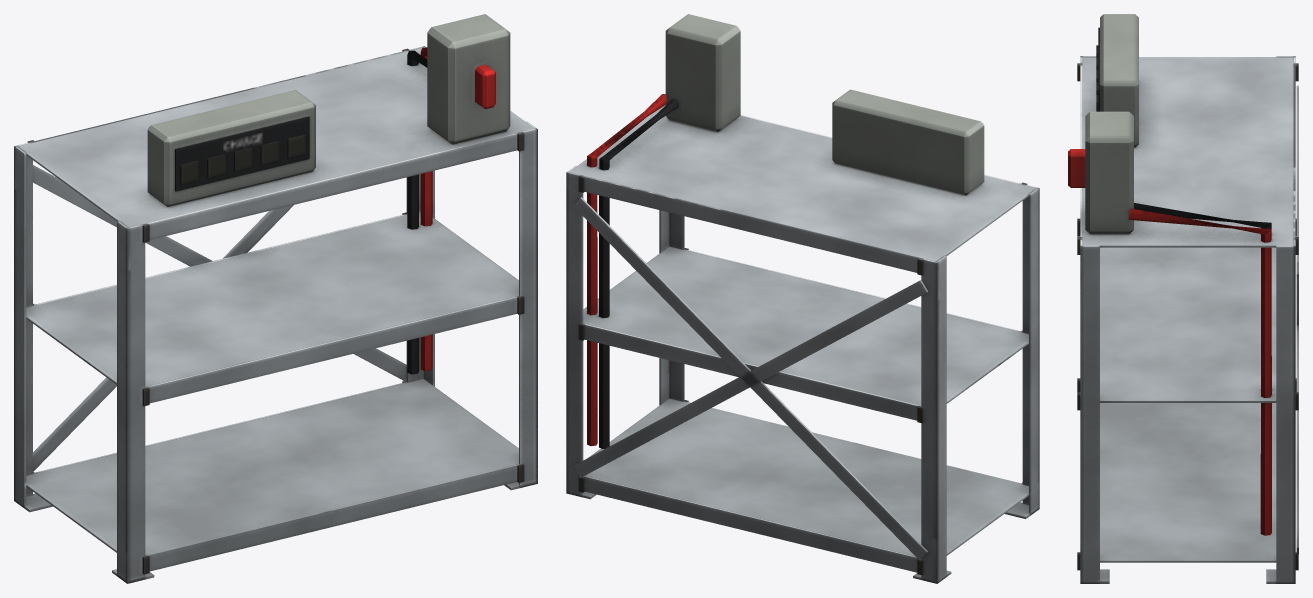
File: RenewableEnergy_BatteryRackMetal.fbx
3 renders of one model, left to right at view 1: azimuth 30°, elevation 25°; view 2: azimuth 150°, elevation 25°; view 3: azimuth 270°, elevation 25°, orthographic. The views are drawn at different scales.
Parts seen in each view (by area): view 1: BatteryRackMetal; view 2: BatteryRackMetal; view 3: BatteryRackMetal.
Boxes of the visible parts, left/top/right/bottom form: BatteryRackMetal: left=14, top=14, right=537, bottom=583; BatteryRackMetal: left=566, top=14, right=1039, bottom=583; BatteryRackMetal: left=1068, top=14, right=1298, bottom=583.
Bounding box in the file's own units: 0.92 × 0.98 × 0.4715.
